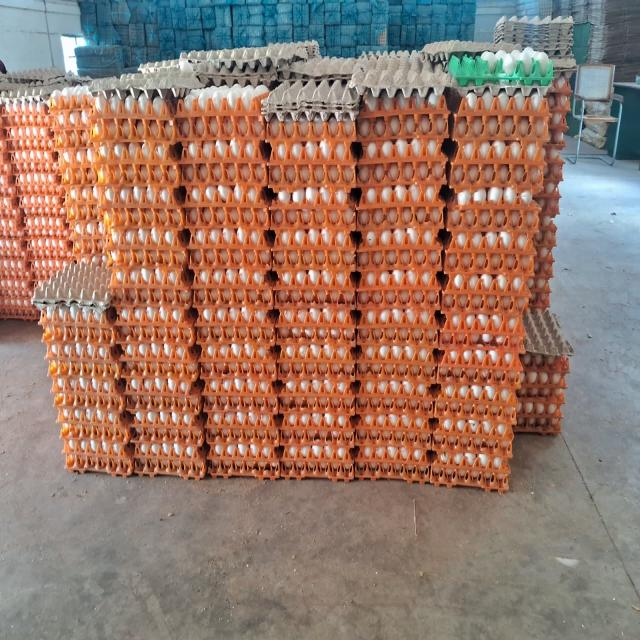egg_tray: (432, 192, 538, 489), (268, 114, 356, 377), (178, 87, 270, 313), (40, 305, 132, 474), (116, 305, 204, 476), (355, 305, 437, 481), (197, 306, 278, 478), (270, 187, 356, 345), (270, 187, 356, 339), (276, 305, 356, 458), (442, 188, 538, 314), (432, 349, 518, 489), (6, 100, 71, 281), (194, 267, 276, 405), (440, 228, 534, 347), (185, 185, 272, 313), (356, 185, 444, 310), (278, 337, 355, 479), (184, 185, 272, 308), (201, 340, 279, 478), (274, 228, 354, 362), (176, 85, 267, 201), (263, 81, 358, 190), (450, 89, 548, 194), (92, 93, 180, 209), (355, 358, 435, 482), (90, 94, 178, 205), (434, 347, 522, 457), (50, 87, 104, 261), (432, 378, 516, 489), (105, 203, 192, 306), (270, 187, 356, 291), (51, 94, 104, 261), (196, 305, 277, 414), (276, 307, 356, 415), (358, 92, 448, 187), (268, 106, 356, 203), (126, 373, 206, 477), (116, 302, 199, 402), (444, 187, 538, 275), (104, 207, 190, 303), (356, 309, 436, 412), (126, 374, 206, 477), (279, 373, 354, 480), (90, 95, 178, 185), (194, 264, 274, 361), (204, 375, 279, 478), (40, 304, 121, 398), (54, 379, 132, 474), (266, 113, 356, 191), (278, 329, 356, 416), (438, 309, 524, 387), (267, 115, 356, 190), (6, 99, 63, 215), (434, 377, 516, 457), (460, 19, 559, 83), (432, 381, 514, 457), (119, 394, 194, 472), (94, 141, 180, 209), (40, 305, 119, 379), (356, 343, 436, 415), (90, 92, 177, 158), (528, 144, 563, 307), (58, 401, 134, 475), (94, 141, 179, 207), (446, 191, 540, 250), (202, 373, 279, 445), (480, 17, 572, 77), (356, 372, 438, 439), (356, 90, 449, 149), (180, 138, 266, 201), (176, 85, 268, 143), (460, 30, 557, 85), (452, 88, 548, 143), (450, 139, 544, 194), (3, 100, 57, 193), (190, 225, 272, 286), (199, 340, 276, 404), (206, 410, 278, 478), (40, 305, 116, 365), (8, 140, 61, 226), (126, 389, 204, 447), (114, 305, 197, 359), (357, 327, 437, 383), (514, 353, 568, 435), (358, 137, 446, 187), (356, 183, 444, 233), (49, 87, 94, 184), (184, 184, 270, 234), (34, 261, 113, 314), (269, 140, 356, 188), (127, 393, 204, 447), (200, 362, 278, 415), (269, 185, 356, 232), (272, 225, 357, 273), (528, 181, 560, 307), (441, 269, 530, 314), (122, 341, 199, 393), (60, 422, 134, 475), (357, 226, 442, 272), (194, 301, 276, 348), (132, 427, 207, 478), (270, 187, 356, 231), (12, 149, 65, 220), (192, 266, 274, 311), (125, 309, 194, 362), (438, 310, 525, 352), (16, 168, 68, 237), (437, 346, 522, 388), (108, 225, 188, 269), (355, 269, 441, 309), (112, 264, 192, 307), (358, 305, 438, 348), (354, 439, 432, 483), (0, 229, 38, 319), (13, 149, 64, 215), (274, 267, 356, 308), (275, 305, 356, 346), (430, 451, 510, 492), (278, 339, 356, 381), (56, 396, 132, 439), (266, 110, 356, 146), (208, 435, 280, 479), (278, 375, 355, 416), (0, 103, 23, 237), (24, 217, 70, 282), (67, 184, 105, 262), (280, 441, 354, 481), (528, 211, 556, 307), (528, 209, 556, 300), (534, 145, 564, 229), (26, 229, 70, 283), (12, 148, 60, 196), (198, 63, 276, 91), (28, 234, 72, 283), (20, 203, 68, 247), (4, 97, 50, 141), (122, 313, 170, 355), (0, 149, 23, 236), (547, 72, 572, 149), (0, 159, 24, 237), (514, 397, 563, 435), (0, 196, 28, 260), (0, 275, 38, 319), (216, 308, 272, 337), (532, 18, 573, 57), (0, 175, 24, 237), (533, 204, 556, 261), (534, 223, 555, 279), (542, 145, 564, 193), (0, 293, 38, 319), (535, 180, 560, 217), (546, 113, 568, 151), (544, 30, 573, 57), (548, 113, 568, 150), (0, 101, 10, 175), (0, 101, 10, 174), (528, 275, 550, 307), (116, 309, 134, 335), (286, 449, 306, 470), (275, 117, 294, 133), (4, 262, 25, 274), (76, 367, 90, 384), (340, 316, 350, 337), (392, 309, 416, 317), (0, 99, 8, 121), (502, 353, 518, 364), (227, 343, 243, 353), (320, 351, 334, 361), (25, 217, 42, 225), (221, 323, 236, 332), (358, 358, 366, 373), (309, 461, 323, 469), (238, 423, 253, 430), (190, 407, 199, 416), (171, 313, 179, 323), (502, 367, 512, 375), (338, 305, 350, 311), (550, 113, 560, 120), (406, 351, 414, 359), (106, 393, 114, 401), (340, 329, 348, 337), (208, 325, 218, 331), (134, 191, 140, 201), (344, 315, 350, 325), (496, 34, 504, 41), (289, 414, 300, 419), (530, 283, 535, 293), (344, 353, 350, 361), (200, 425, 203, 440), (559, 53, 570, 57), (136, 464, 147, 468), (380, 310, 387, 316), (138, 94, 146, 99), (360, 351, 366, 357), (174, 459, 178, 468), (289, 318, 294, 325), (557, 53, 568, 56), (26, 225, 30, 233), (266, 295, 270, 303), (316, 451, 321, 457), (31, 243, 38, 247), (59, 218, 64, 223), (307, 452, 312, 457), (338, 351, 342, 357), (380, 310, 386, 314), (100, 332, 104, 338), (44, 178, 47, 186), (513, 371, 519, 375), (41, 243, 46, 247), (125, 153, 130, 157), (458, 76, 462, 81), (386, 329, 390, 334), (526, 25, 531, 29), (43, 219, 46, 225), (428, 314, 434, 317), (192, 250, 196, 254), (163, 197, 167, 201), (0, 185, 2, 193), (122, 357, 126, 361), (346, 335, 350, 339), (535, 268, 538, 273), (0, 133, 3, 138), (47, 229, 50, 234), (147, 197, 152, 200), (153, 464, 156, 469), (108, 316, 111, 321), (279, 299, 286, 301), (351, 95, 354, 99), (458, 167, 461, 171), (285, 363, 288, 367), (194, 281, 196, 287), (105, 107, 108, 111), (47, 200, 50, 204), (389, 347, 392, 351), (0, 139, 2, 144), (292, 443, 294, 448), (347, 203, 350, 206), (307, 196, 310, 199), (425, 441, 428, 444), (174, 453, 177, 456), (296, 313, 299, 316), (87, 400, 90, 403), (54, 196, 58, 198), (246, 425, 250, 427), (372, 369, 376, 371), (20, 173, 24, 175), (301, 423, 303, 427), (300, 326, 304, 328), (295, 318, 299, 320), (466, 210, 470, 212), (60, 198, 62, 201), (208, 367, 210, 370), (388, 328, 390, 331), (8, 177, 11, 179), (194, 239, 197, 241), (266, 356, 268, 359), (476, 58, 478, 61), (284, 380, 286, 383), (336, 327, 338, 330), (282, 425, 284, 428), (280, 309, 282, 312), (504, 189, 507, 191), (125, 372, 126, 377), (232, 433, 237, 434), (286, 416, 287, 421), (487, 404, 492, 405), (76, 372, 78, 374), (426, 362, 428, 364), (348, 372, 350, 374), (456, 283, 458, 285), (508, 47, 510, 49), (390, 355, 392, 357), (567, 97, 569, 99), (142, 188, 144, 190), (316, 335, 318, 337), (342, 425, 345, 426), (74, 372, 76, 373), (554, 25, 555, 27), (432, 362, 434, 363), (168, 364, 170, 365), (142, 314, 144, 315), (364, 312, 366, 313), (6, 180, 8, 181), (294, 465, 296, 466), (484, 211, 486, 212), (177, 452, 179, 453), (336, 371, 337, 372), (327, 333, 328, 334), (427, 312, 428, 313), (91, 458, 92, 459), (123, 449, 124, 450), (129, 394, 130, 395), (356, 100, 356, 101), (501, 189, 501, 190), (507, 23, 508, 23), (200, 63, 202, 63), (59, 367, 59, 367), (275, 249, 275, 252), (514, 143, 518, 143), (385, 355, 385, 357), (381, 354, 381, 355), (288, 347, 288, 348), (270, 405, 270, 405), (197, 278, 197, 279), (182, 363, 184, 363), (150, 435, 150, 437), (472, 236, 472, 237), (274, 358, 274, 361), (226, 347, 226, 349), (268, 315, 268, 317), (499, 72, 499, 73), (432, 320, 432, 321), (290, 447, 290, 448), (347, 379, 347, 381), (312, 337, 312, 337), (283, 336, 283, 337), (314, 463, 314, 464), (87, 467, 93, 467), (111, 339, 112, 339), (136, 309, 136, 310), (296, 316, 296, 317), (538, 45, 540, 45), (530, 31, 530, 32), (318, 318, 318, 319), (328, 301, 328, 301), (518, 378, 518, 380), (450, 369, 450, 370), (441, 365, 441, 367)
